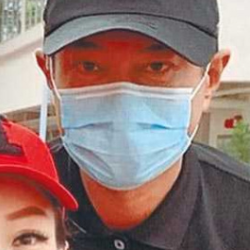mask: (50, 73, 197, 194)
